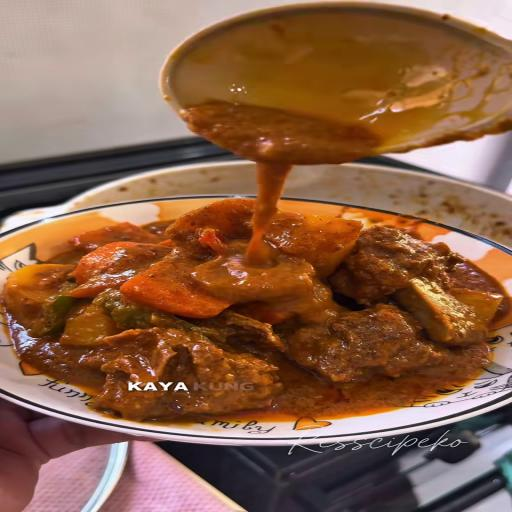pork caldereta: (0, 212, 511, 375)
